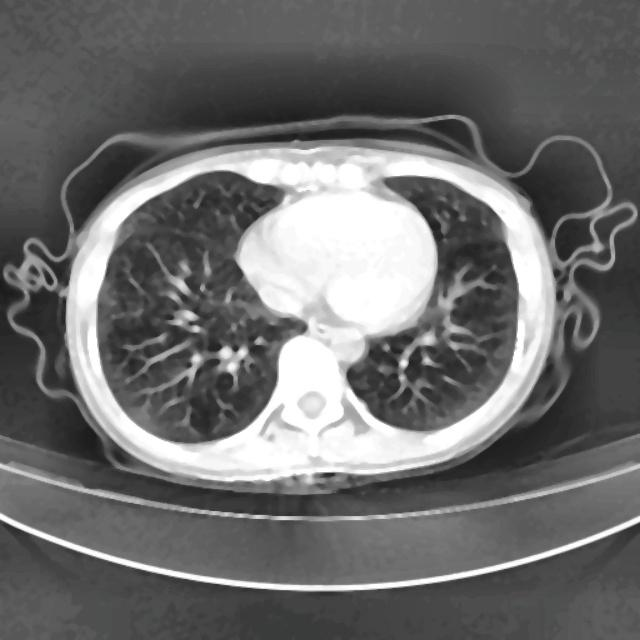covid: (4, 113, 633, 495)
